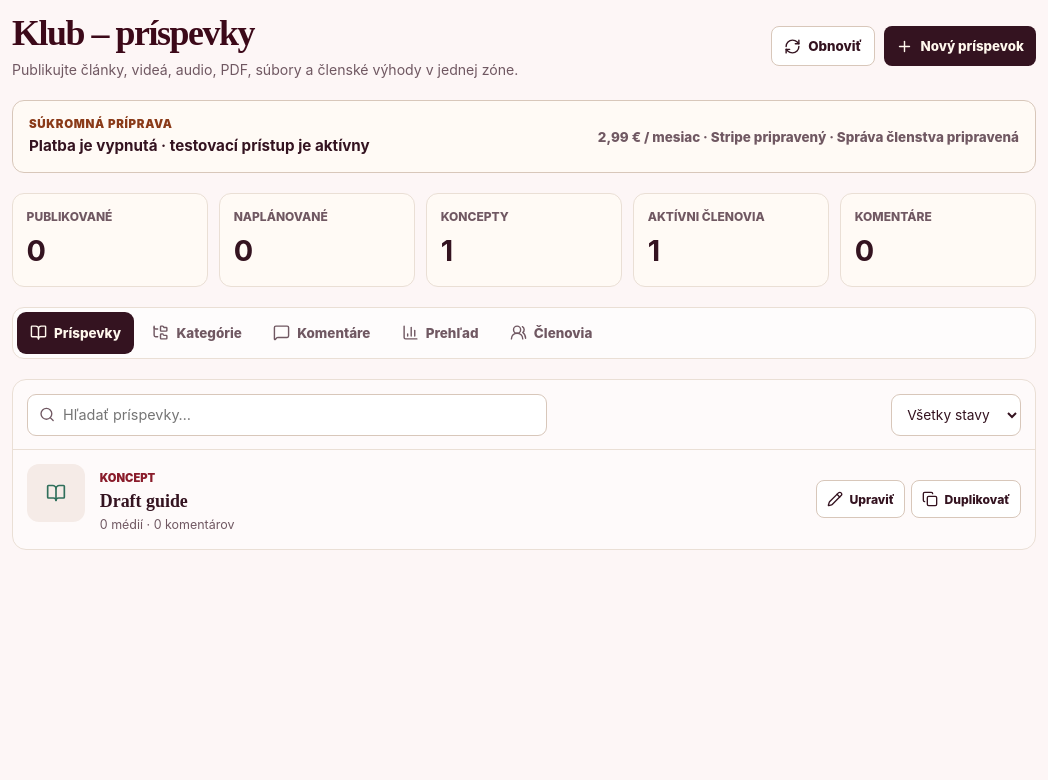
Test case: MembershipAdminSection › labels allowlisted QA access separately from paid Stripe access
The width and height of the screenshot is (1048, 780).
Check: the text "Platba je vypnutá · testovací prístup je aktívny" is shown, box [29,135,370,158]
Click the button "Členovia" at (551,333), box [497,312,605,354]
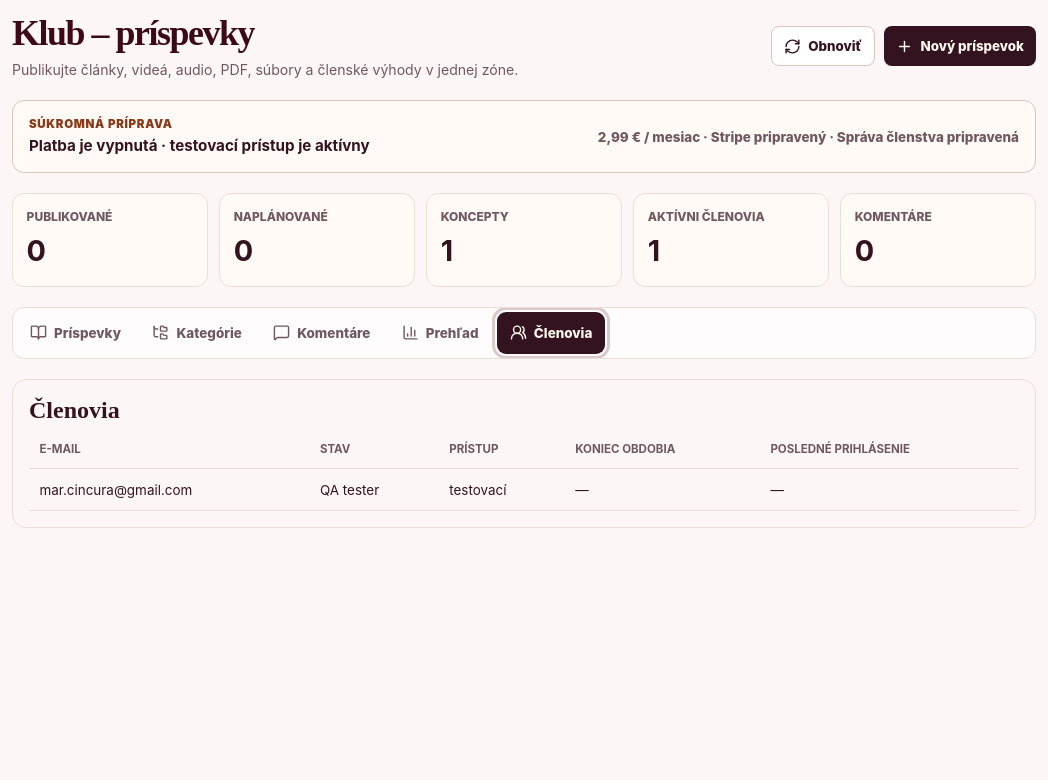
Check: the text "mar.cincura@gmail.com" is shown, box [29,469,310,511]
Check: the text "QA tester" is shown, box [310,469,439,511]
Check: the text "testovací" is shown, box [439,469,565,511]
